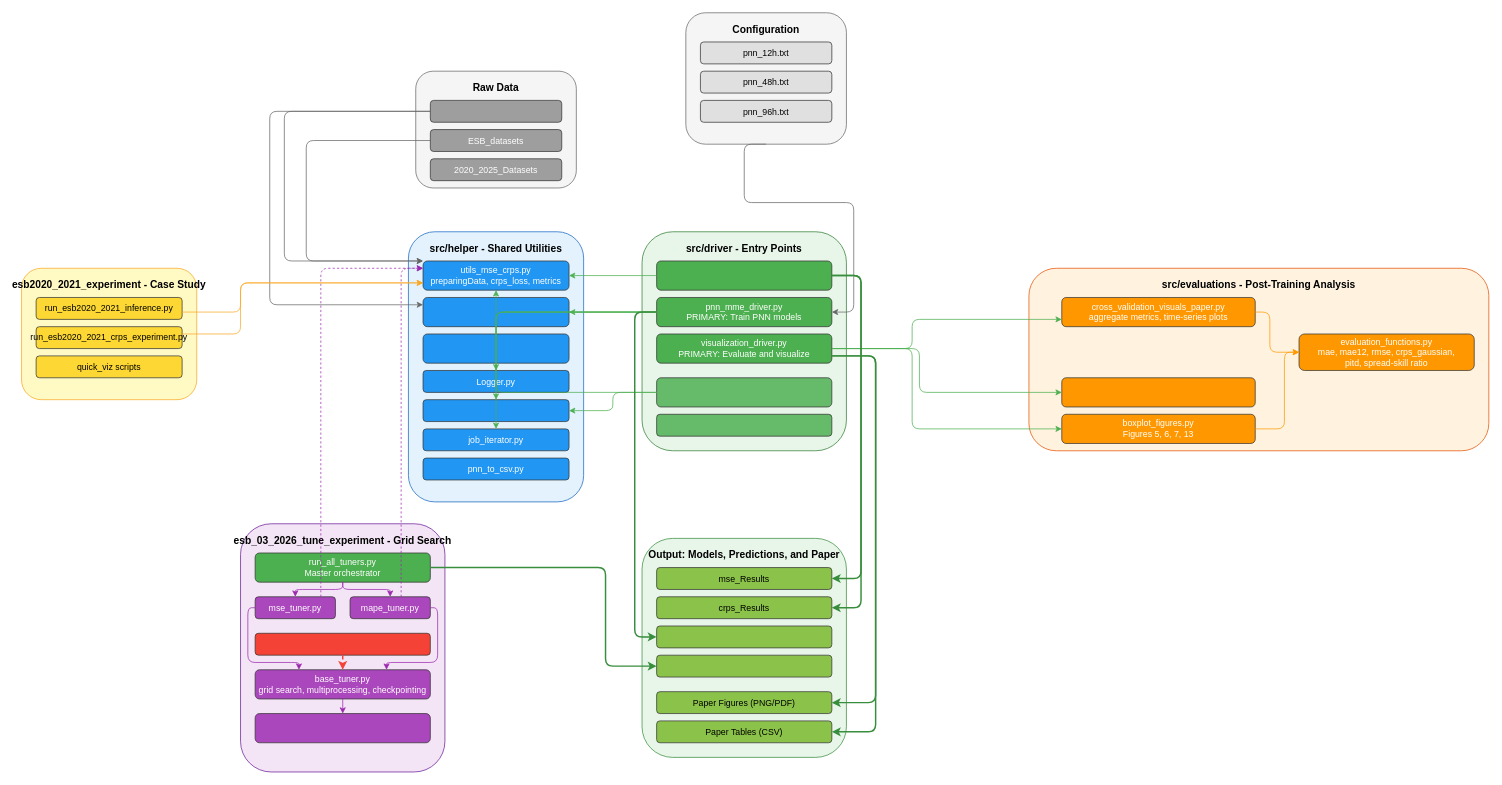
Some shapes in this 1502 by 785 pixel diagram are drawn without their labels. The shapes that lost their labels are listed below. From the top down, each one's centre as x and y in pixels, then its label:
point (496, 111): June_May_Datasets
point (744, 275): operational_mse_crps_driver.py PRIMARY: Train MSE/CRPS models
point (495, 312): utils_pnn.py preparingData for PNN
point (495, 348): utils.py crps_loss legacy, weighted_mse
point (495, 410): my_parser.py
point (744, 392): crps_mme_runner.py Legacy CRPS trainer
point (1158, 392): aggregate_tables.py summary tables for paper
point (744, 425): tuner_retreiver.py
point (342, 644): crps_tuner.py BROKEN
point (744, 636): pnn_Results
point (744, 665): tune_experiment_results
point (342, 728): tuner_utils.py GridSearchConfig, ProgressTracker, TimingLogger
